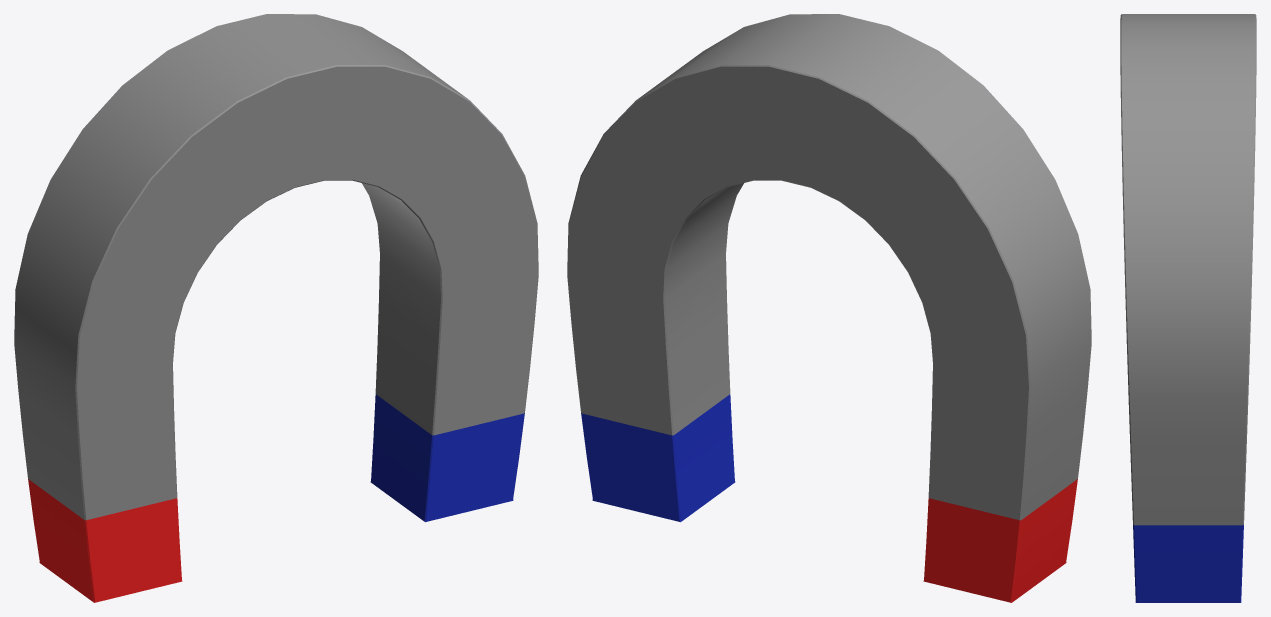
The model's file is Magnet1.FBX.
The picture shows the model from 3 angles, left to right: view 1: azimuth 30°, elevation 25°; view 2: azimuth 150°, elevation 25°; view 3: azimuth 270°, elevation 25°; orthographic projection. The views are drawn at different scales.
Parts seen in each view (by area): view 1: Box069; view 2: Box069; view 3: Box069.
Boxes of the visible parts, x1,y1,x2,y2 form: Box069: (14, 14, 538, 602); Box069: (567, 14, 1091, 602); Box069: (1120, 14, 1256, 602).
Bounding box in the file's own units: 1081 × 1084 × 287.
